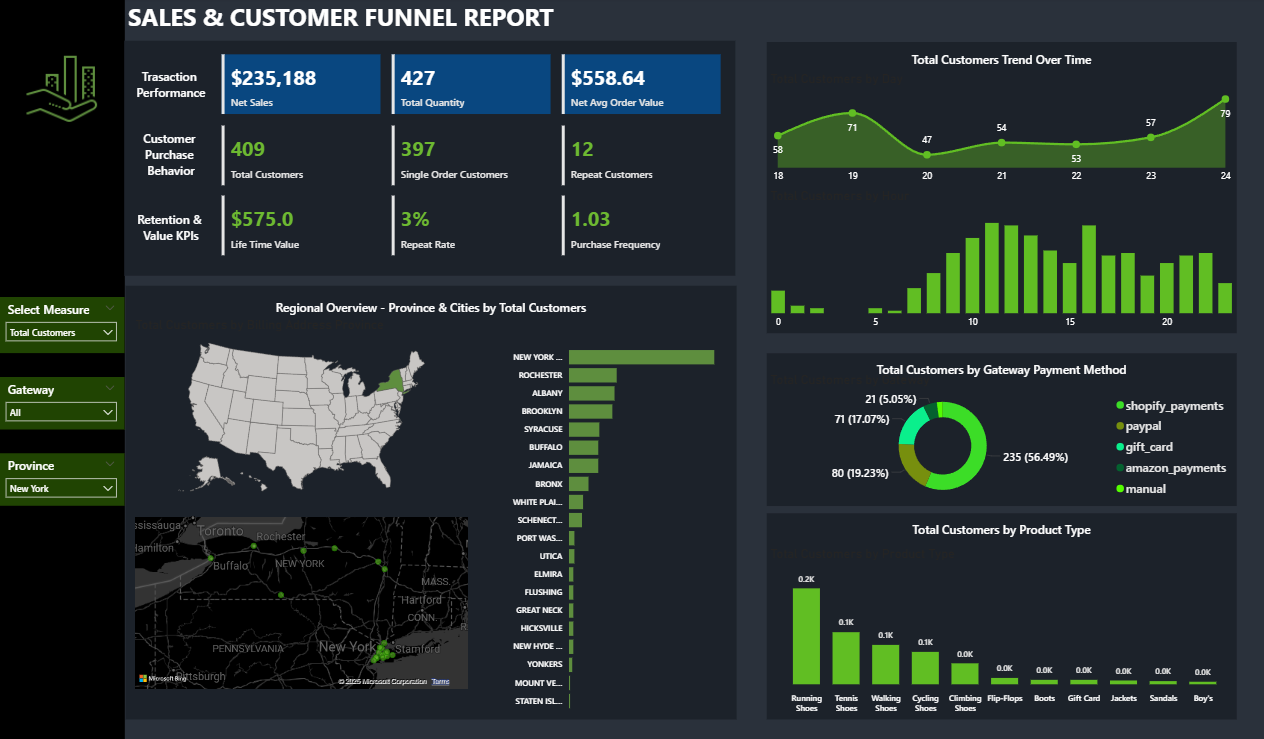

This screenshot's page, from the dashboard's own definition file:
{"tool":"powerbi","page":{"name":"Shopify Analysis","canvas":[1700,1000],"ordinal":0},"visuals":[{"type":"shape","box":[0,0,170,999],"z":0},{"type":"textbox","box":[169.2,0,754,58.6],"z":1000},{"type":"shape","box":[169.2,58.6,819.4,315],"z":2000},{"type":"cardVisual","fields":{"Data":["shopify_sales.Net Sales","shopify_sales.Total Quantity","shopify_sales.Net Avg Order Value"]},"box":[294.9,72.1,680.3,90.5],"z":3000},{"type":"card","fields":{"Values":["shopify_sales.Transaction Perf"]},"box":[169.2,82.1,125.7,70.4],"z":4000},{"type":"cardVisual","fields":{"Data":["shopify_sales.Total Customers","shopify_sales.Single Order Customers","shopify_sales.Repeat Customers"]},"box":[294.9,166.7,680.3,90.5],"z":5000},{"type":"card","fields":{"Values":["shopify_sales.Customer Purchase Behavior"]},"box":[169.2,160,125.7,93.8],"z":6000},{"type":"cardVisual","fields":{"Data":["shopify_sales.Life Time Value","shopify_sales.Repeat Rate","shopify_sales.Purchase Frequency"]},"box":[294.9,261.4,680.3,90.5],"z":7000},{"type":"card","fields":{"Values":["shopify_sales.Retention & Value KPIs"]},"box":[169.2,261.4,125.7,93.8],"z":8000},{"type":"shape","box":[170.9,387.1,819.4,581.4],"z":9000},{"type":"shapeMap","fields":{"Value":["shopify_sales.Total Customers"],"Category":["shopify_sales.Billing Address Province"]},"box":[179.3,429,455.8,249.7],"z":10000},{"type":"slicer","fields":{"Values":["Select Measure.Select Measure"]},"box":[0,402.1,169.2,75.4],"z":11000},{"type":"map","fields":{"Category":["shopify_sales.Location"]},"box":[179.3,692,455.8,241.3],"z":12000},{"type":"clusteredBarChart","fields":{"Y":["shopify_sales.Total Customers"],"Category":["shopify_sales.CITY"]},"box":[673.6,450.7,315,517.8],"z":13000},{"type":"card","fields":{"Values":["shopify_sales.Map Title"]},"box":[316.7,402.1,527.8,33.5],"z":14000},{"type":"shape","box":[1030.5,60.3,630,390.4],"z":15000},{"type":"areaChart","fields":{"Y":["shopify_sales.Total Customers"],"Category":["shopify_sales.Invoice Date.Variation.Date Hierarchy.Day"]},"box":[1030.5,98.9,630,159.2],"z":16000},{"type":"clusteredColumnChart","fields":{"Y":["shopify_sales.Total Customers"],"Category":["shopify_sales.Hour"]},"box":[1030.5,256.4,630,197.7],"z":17000},{"type":"card","fields":{"Values":["shopify_sales.Trend Title"]},"box":[1204.8,72.1,281.5,26.8],"z":18000},{"type":"shape","box":[1030.5,477.5,630,205],"z":19000},{"type":"donutChart","fields":{"Y":["shopify_sales.Total Customers"],"Category":["shopify_sales.Gateway"]},"box":[1030.5,502.7,630,179.3],"z":20000},{"type":"card","fields":{"Values":["shopify_sales.Gateway Title"]},"box":[1151.1,487.6,388.7,28.5],"z":21000},{"type":"shape","box":[1030.5,692,630,276.5],"z":22000},{"type":"columnChart","fields":{"Y":["shopify_sales.Total Customers"],"Category":["shopify_sales.Product Type"]},"box":[1030.5,735.6,630,232.9],"z":23000},{"type":"card","fields":{"Values":["shopify_sales.Product Title"]},"box":[1142.8,697.1,405.5,38.5],"z":24000},{"type":"slicer","fields":{"Values":["shopify_sales.Gateway"]},"box":[0,509.4,169.2,70.4],"z":26000},{"type":"slicer","fields":{"Values":["shopify_sales.Billing Address Province"]},"box":[0,611.6,169.2,70.4],"z":27000},{"type":"image","box":[23.5,60.3,124,125.7],"z":27001}]}

Visuals, with their boxes in screenshot pixels (x1, y1, x2, y2), scaled from the page's 1700x1000 canvas onto the 1264x739 screenshot:
shape: bbox=(0, 0, 126, 738)
textbox: bbox=(126, 0, 686, 43)
shape: bbox=(126, 43, 735, 276)
cardVisual - shopify_sales.Net Sales x shopify_sales.Total Quantity: bbox=(219, 53, 725, 120)
card - shopify_sales.Transaction Perf: bbox=(126, 61, 219, 113)
cardVisual - shopify_sales.Total Customers x shopify_sales.Single Order Customers: bbox=(219, 123, 725, 190)
card - shopify_sales.Customer Purchase Behavior: bbox=(126, 118, 219, 188)
cardVisual - shopify_sales.Life Time Value x shopify_sales.Repeat Rate: bbox=(219, 193, 725, 260)
card - shopify_sales.Retention & Value KPIs: bbox=(126, 193, 219, 262)
shape: bbox=(127, 286, 736, 716)
shapeMap - shopify_sales.Total Customers x shopify_sales.Billing Address Province: bbox=(133, 317, 472, 502)
slicer - Select Measure.Select Measure: bbox=(0, 297, 126, 353)
map - shopify_sales.Location: bbox=(133, 511, 472, 690)
clusteredBarChart - shopify_sales.Total Customers x shopify_sales.CITY: bbox=(501, 333, 735, 716)
card - shopify_sales.Map Title: bbox=(235, 297, 628, 322)
shape: bbox=(766, 45, 1235, 333)
areaChart - shopify_sales.Total Customers x shopify_sales.Invoice Date.Variation.Date Hierarchy.Day: bbox=(766, 73, 1235, 191)
clusteredColumnChart - shopify_sales.Total Customers x shopify_sales.Hour: bbox=(766, 189, 1235, 336)
card - shopify_sales.Trend Title: bbox=(896, 53, 1105, 73)
shape: bbox=(766, 353, 1235, 504)
donutChart - shopify_sales.Total Customers x shopify_sales.Gateway: bbox=(766, 371, 1235, 504)
card - shopify_sales.Gateway Title: bbox=(856, 360, 1145, 381)
shape: bbox=(766, 511, 1235, 716)
columnChart - shopify_sales.Total Customers x shopify_sales.Product Type: bbox=(766, 544, 1235, 716)
card - shopify_sales.Product Title: bbox=(850, 515, 1151, 544)
slicer - shopify_sales.Gateway: bbox=(0, 376, 126, 428)
slicer - shopify_sales.Billing Address Province: bbox=(0, 452, 126, 504)
image: bbox=(17, 45, 110, 137)
